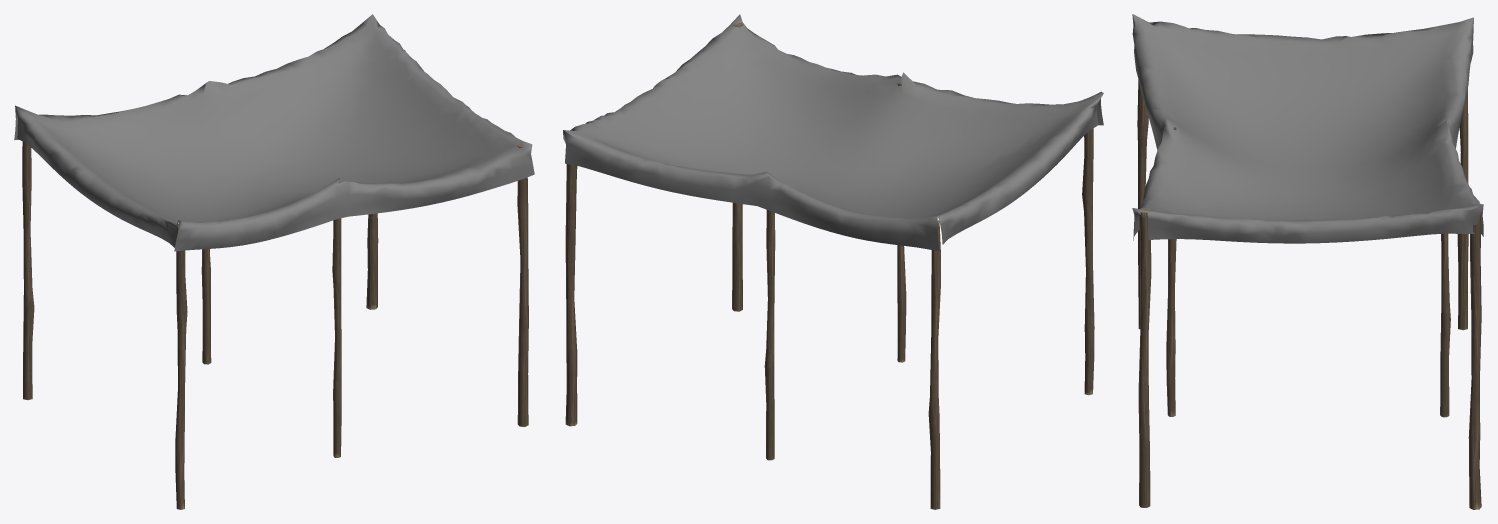
File: SM_marketstand_03.fbx
3 renders of one model, left to right at view 1: azimuth 30°, elevation 25°; view 2: azimuth 150°, elevation 25°; view 3: azimuth 270°, elevation 25°, orthographic. The views are drawn at different scales.
Parts seen in each view (by area): view 1: Object32553; view 2: Object32553; view 3: Object32553.
Boxes of the visible parts, box(x1,y1,x2,y2) form: Object32553: box(14, 14, 534, 509); Object32553: box(563, 14, 1103, 509); Object32553: box(1132, 14, 1483, 509).
Bounding box in the file's own units: 178 × 135 × 139.
